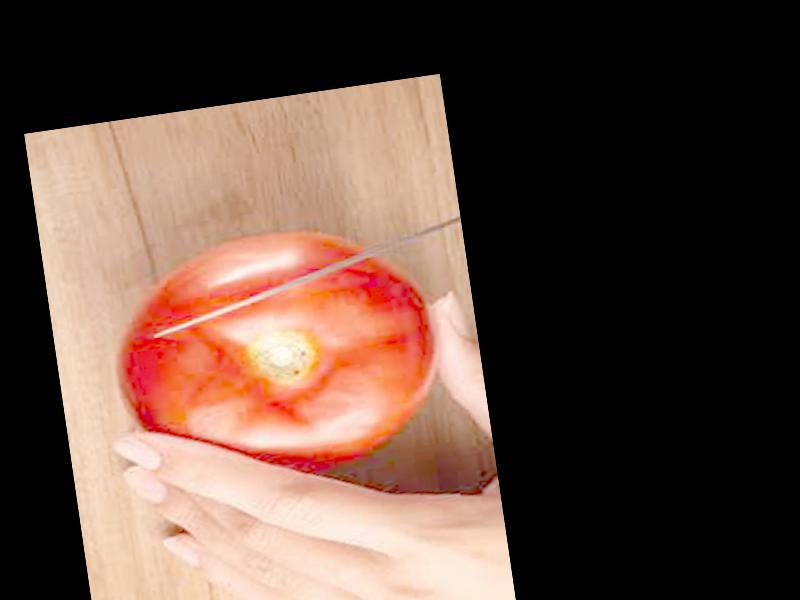Tomato: (103, 218, 449, 499)
